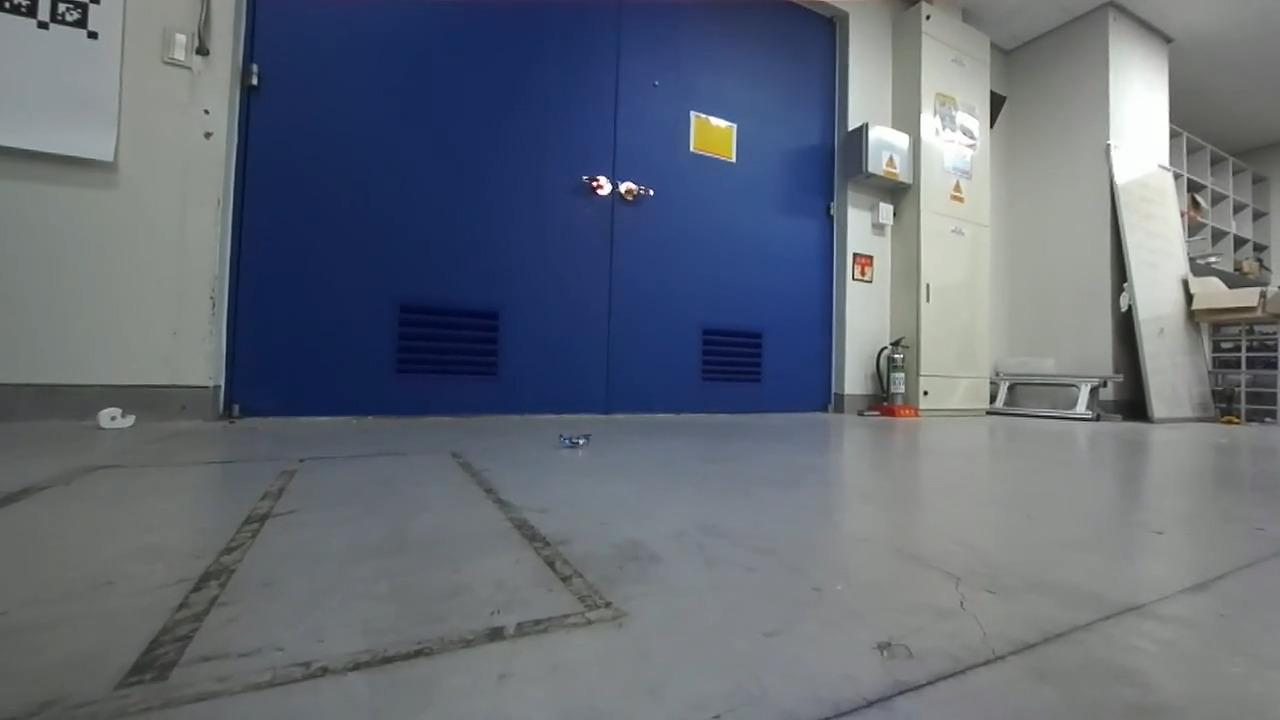crazyflie: (549, 423, 600, 453)
